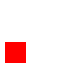square: (5, 42, 25, 62)
